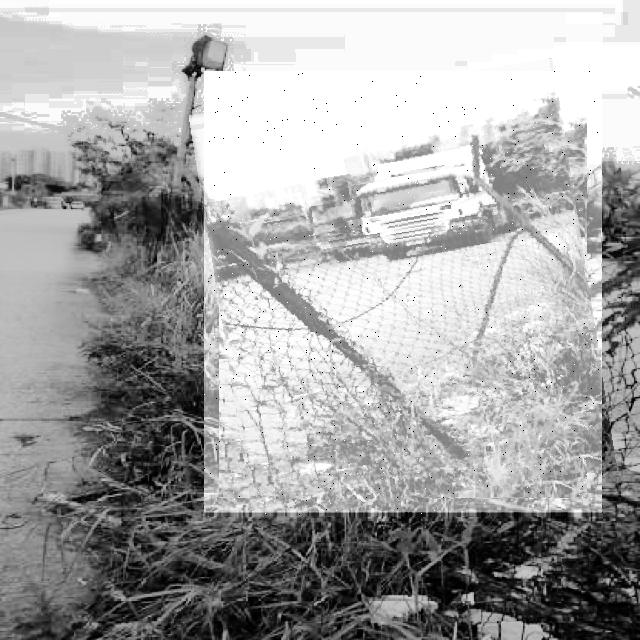anomaly-fence: (204, 72, 602, 516)
